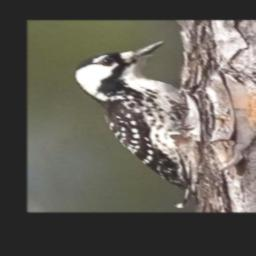Woodpecker: (69, 39, 202, 189)
